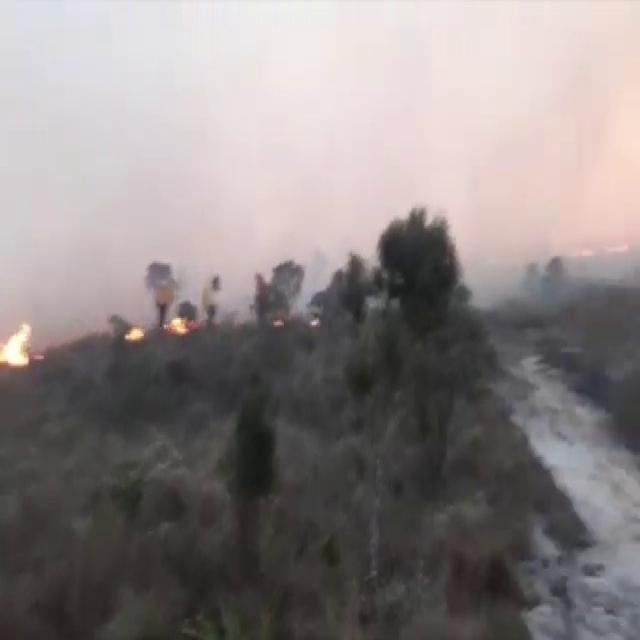Fire: (112, 294, 226, 374), (6, 306, 31, 376)
